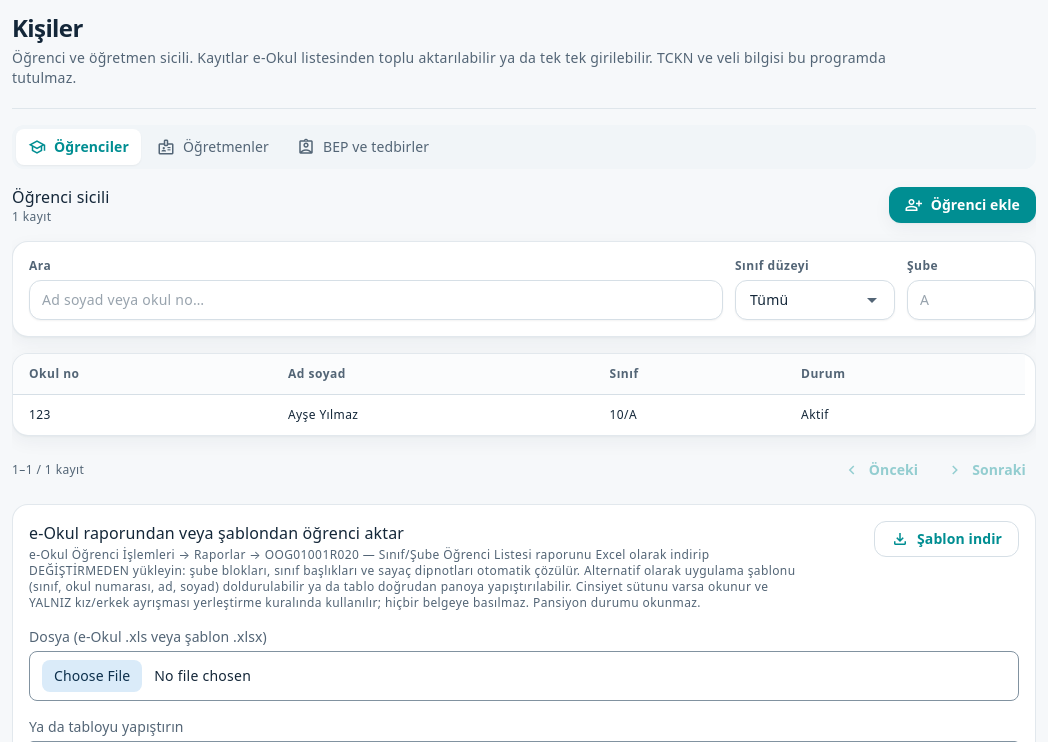
Test: KisilerPage — BEP sekmesi › üçüncü sekme BEP'tir; liste yalnız sekme açılınca istenir ve tam başlığıyla çizilir
Expected: the text "Ayşe Yılmaz" is shown, [272, 394, 594, 435]
Click the tab "BEP ve tedbirler" at (363, 147), box [285, 129, 441, 165]
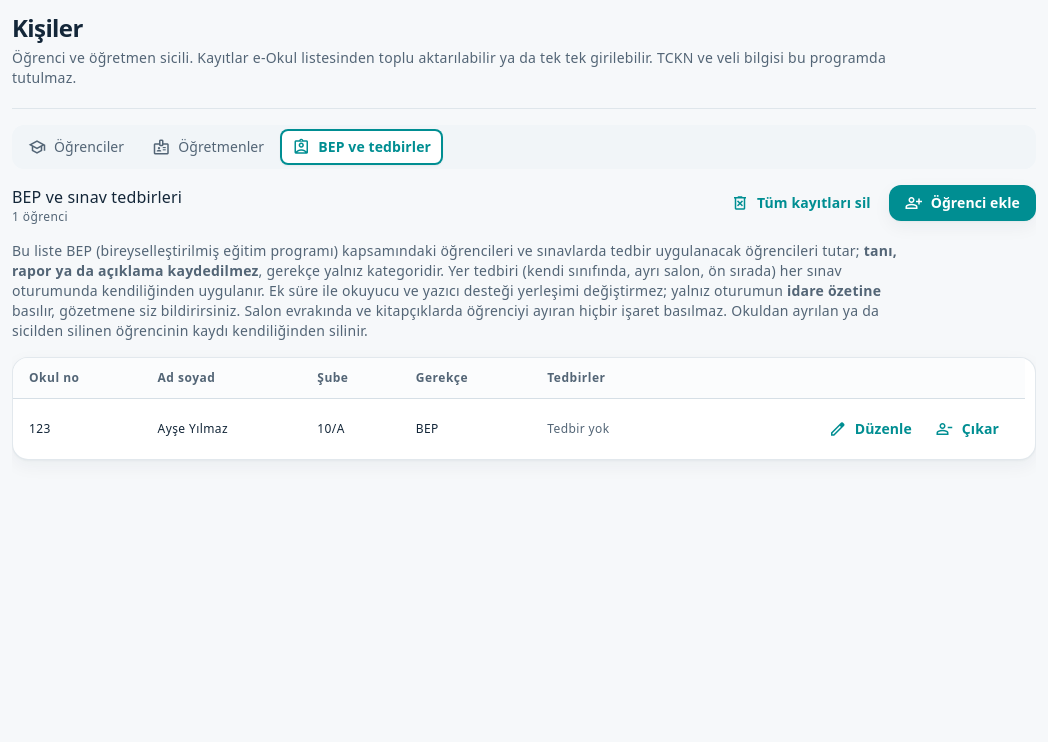
Result: the text "BEP ve sınav tedbirleri" is shown at [12, 185, 182, 209]
Result: the button "Çıkar" is shown at [926, 411, 1009, 447]
Result: the text "Öğrenci sicili" is gone
